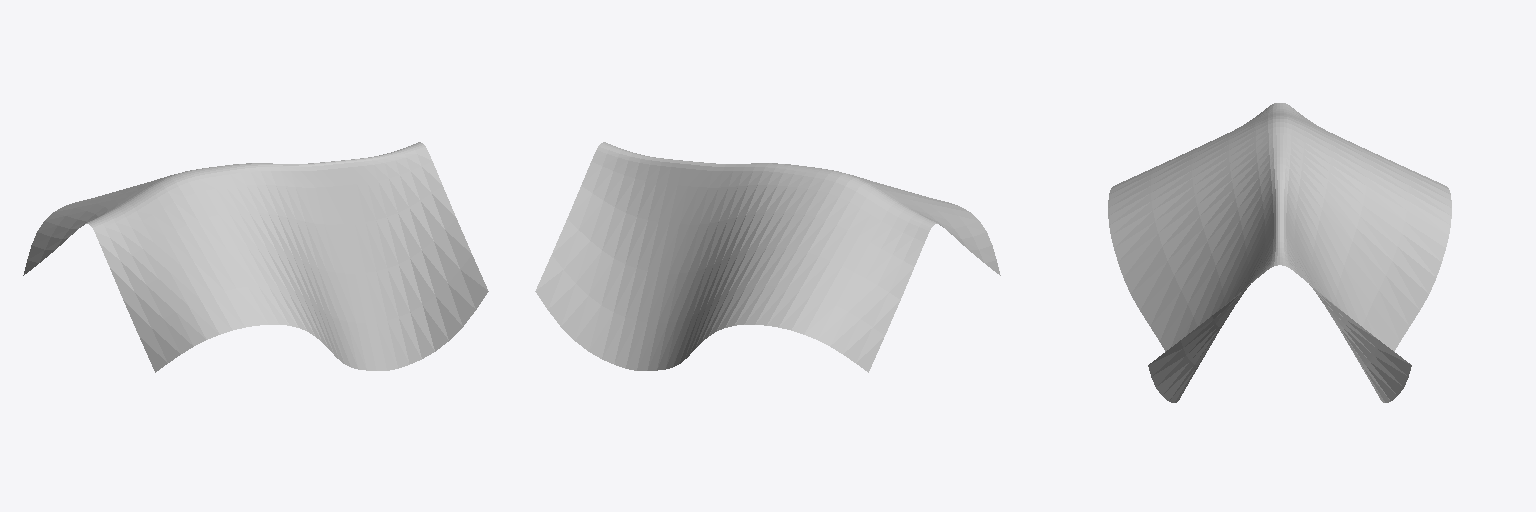
3 renders of one model, left to right at view 1: azimuth 30°, elevation 25°; view 2: azimuth 150°, elevation 25°; view 3: azimuth 270°, elevation 25°, orthographic.
Parts seen in each view (by area): view 1: strip-1-04; view 2: strip-1-04; view 3: strip-1-04.
Boxes of the visible parts, box(x1,y1,x2,y2) form: strip-1-04: box(23, 142, 488, 372); strip-1-04: box(535, 142, 1000, 372); strip-1-04: box(1108, 103, 1451, 402).
Bounding box in the file's own units: 0.25 × 0.1412 × 0.2233.